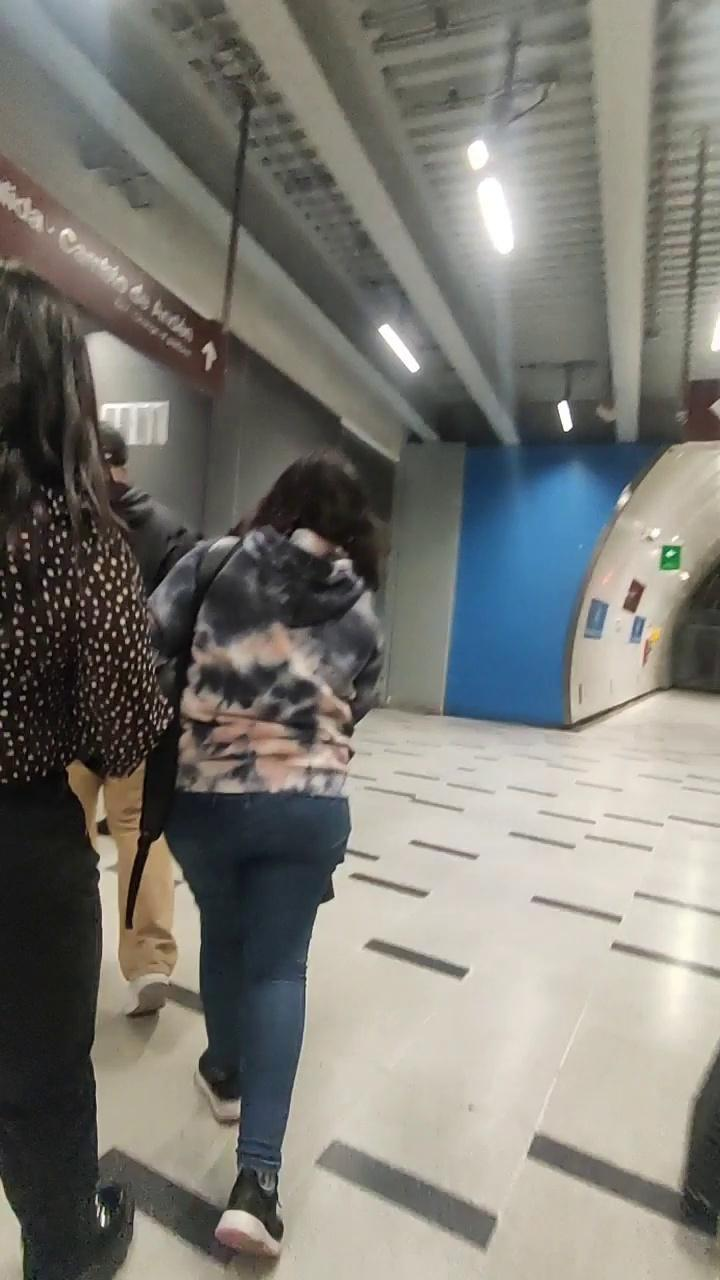up arrow: (198, 336, 222, 379)
